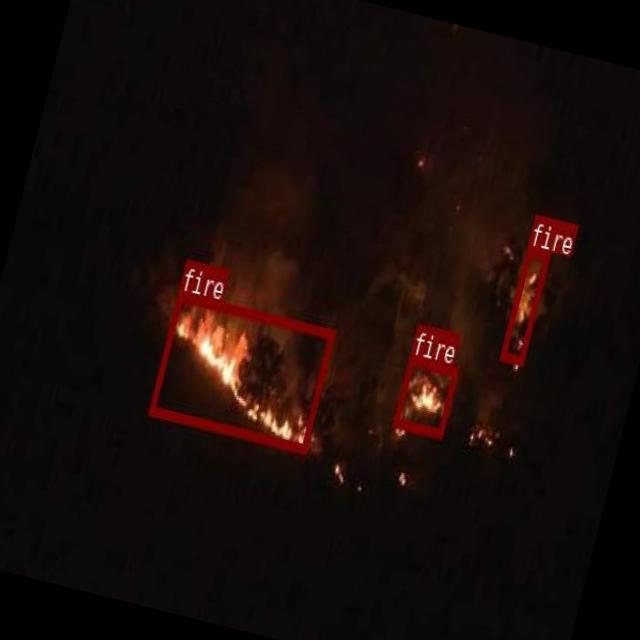fire: (147, 291, 335, 452), (498, 246, 550, 362), (392, 354, 459, 436)
